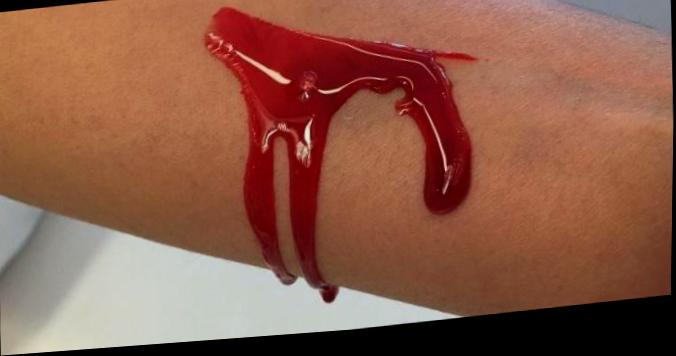Fire: (204, 9, 479, 308)
